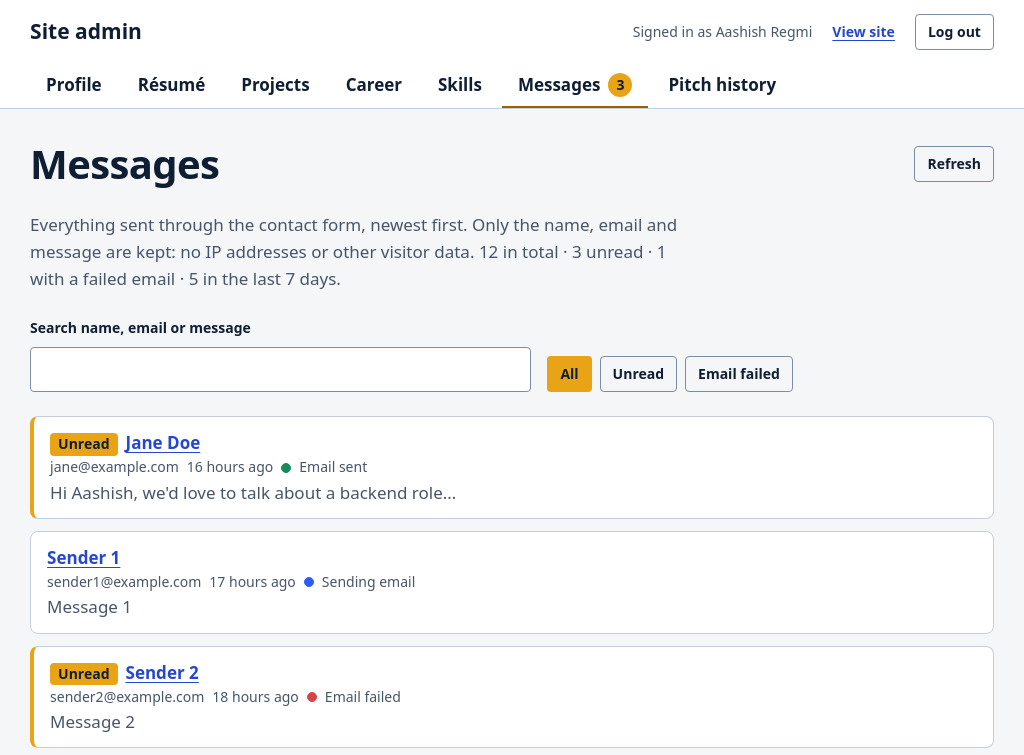
Scenario: Messages: detail › deletes after confirming, with cookies and CSRF, and returns to a refreshed list
What coordinates should you click on to do the following:
click the link with aria-label "Unread message from Jane Doe"
I would click on:
 (163, 443)
Its box is x1=126 y1=431 x2=200 y2=454.
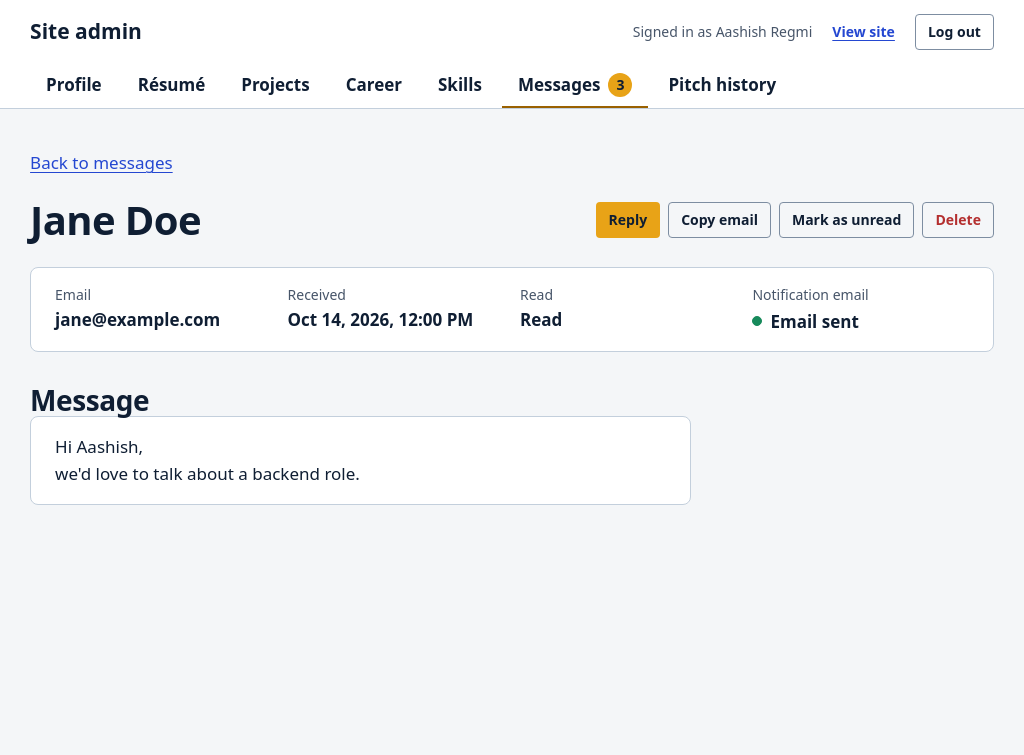
Expected: the heading "Jane Doe" is shown, x1=30 y1=197 x2=201 y2=243
What coordinates should you click on to do the following:
click the button "Delete"
I would click on:
 (958, 220)
Its box is x1=922 y1=202 x2=994 y2=238.
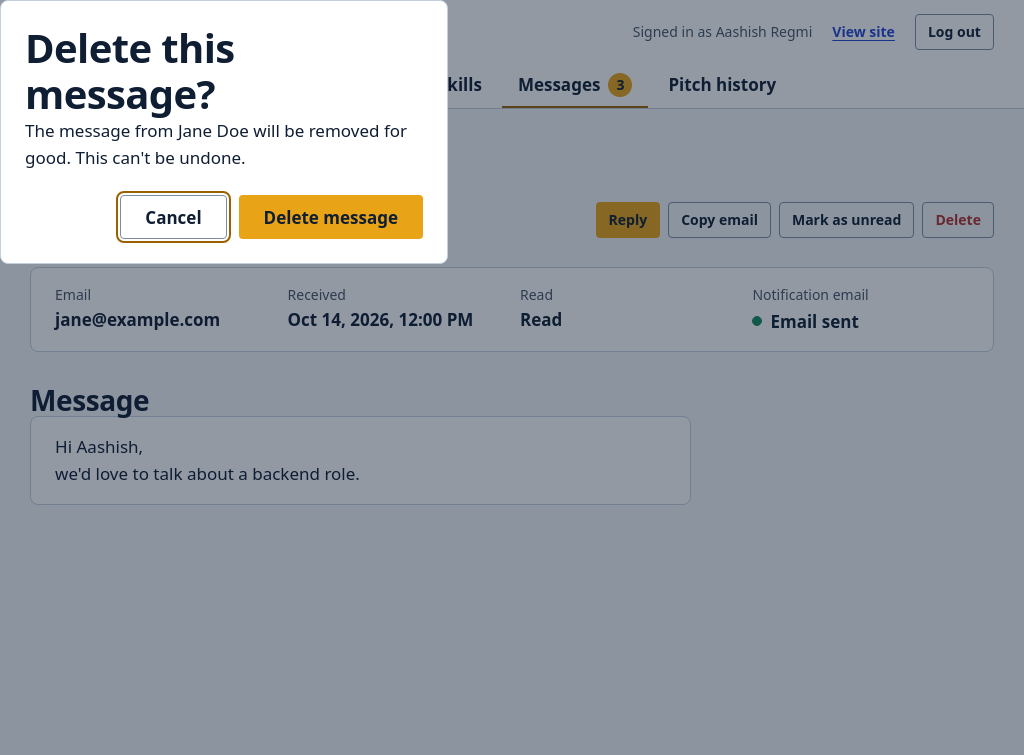
What coordinates should you click on to do the following:
click the button "Delete message"
I would click on:
 (331, 217)
Its box is x1=239 y1=195 x2=423 y2=239.
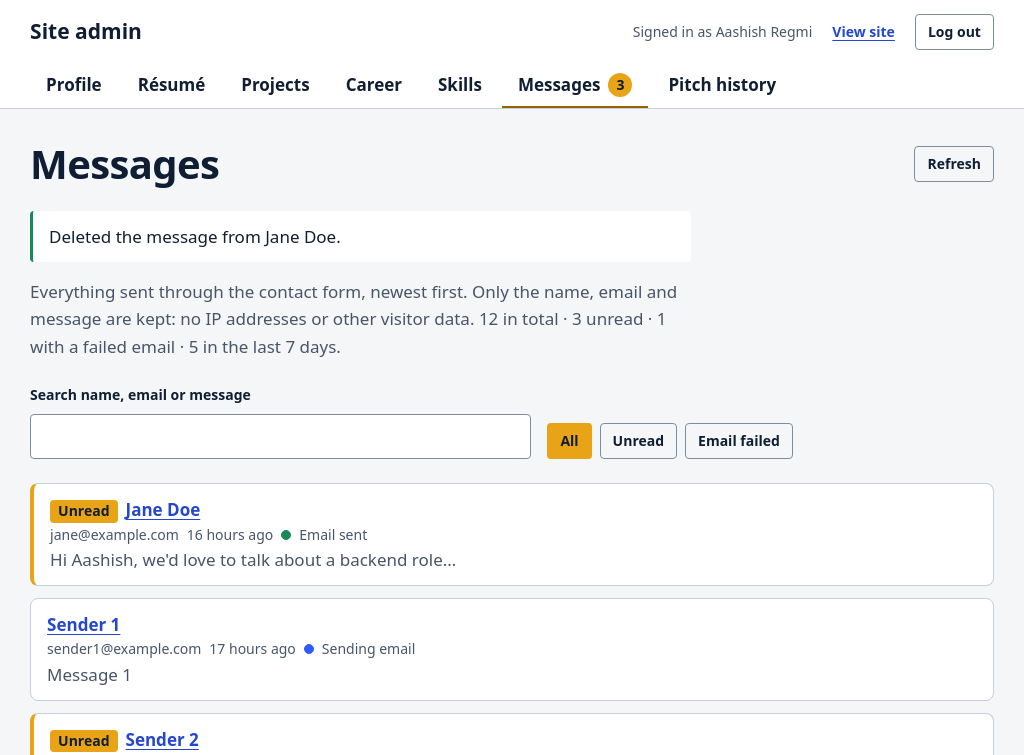
Expected: the heading "Messages" is shown, x1=30 y1=141 x2=219 y2=187
Result: the text "Deleted the message from Jane Doe." is shown at x1=30 y1=211 x2=691 y2=262
